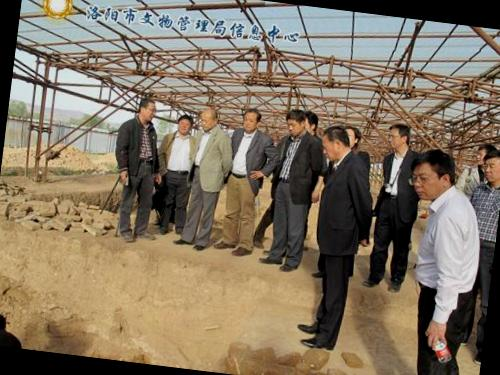no_helmet: (404, 144, 458, 204), (320, 121, 355, 162), (476, 142, 500, 185), (385, 121, 413, 156), (132, 96, 159, 127), (238, 103, 264, 135), (282, 106, 308, 138), (470, 140, 498, 169), (196, 102, 220, 134), (172, 110, 196, 136)
